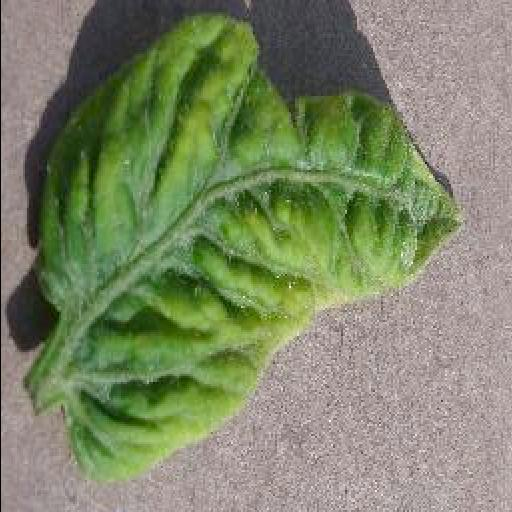disease_tomato: (38, 10, 466, 484)
